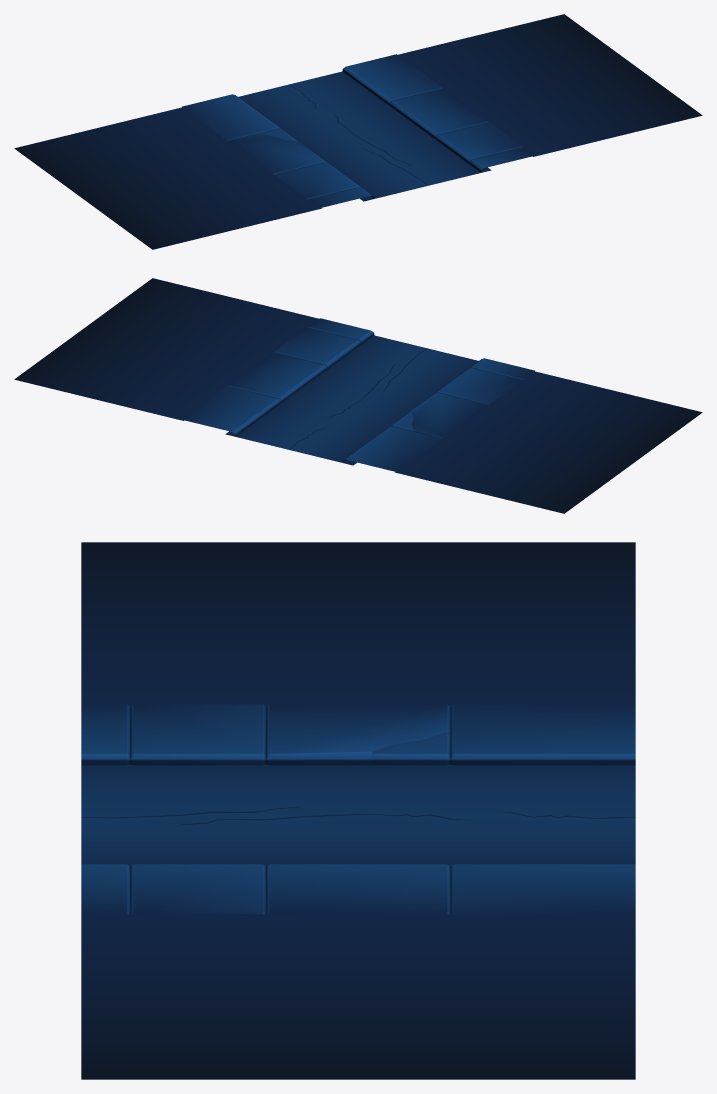
Rendered from Road02Night.fbx.
3 views of the same model, one above another, from view 1: azimuth 30°, elevation 25°; view 2: azimuth 150°, elevation 25°; view 3: azimuth 270°, elevation 25° (orthographic). The views are drawn at different scales.
Parts seen in each view (by area): view 1: Road02Night; view 2: Road02Night; view 3: Road02Night.
Boxes of the visible parts, x1,y1,x2,y2 form: Road02Night: [14, 14, 702, 249]; Road02Night: [14, 278, 702, 513]; Road02Night: [81, 542, 635, 1079].
Bounding box in the file's own units: 2062 × 18.42 × 900.
